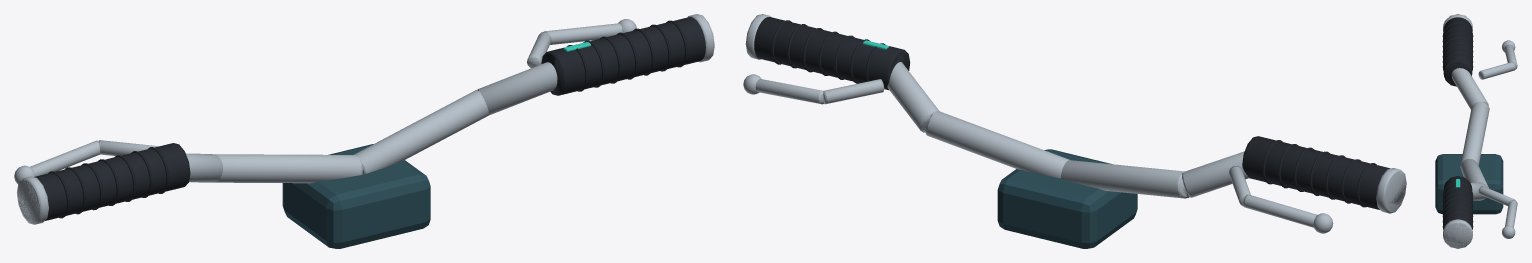
Rendered from bars-motorcycle.glb.
3 renders of one model, left to right at view 1: azimuth 30°, elevation 25°; view 2: azimuth 150°, elevation 25°; view 3: azimuth 270°, elevation 25°, orthographic. The views are drawn at different scales.
Parts seen in each view (by area): view 1: stem_mount, grip.001, grip, bar_inner.001, bar_inner, bar_rise.001, end_cap, lever_tip.001, lever_tip, bar_rise, end_cap.002, lever_root (+1 smaller); view 2: stem_mount, grip.001, grip, bar_inner.001, bar_inner, bar_rise.001, bar_rise, lever_tip, lever_tip.001, end_cap, lever_root.001, end_cap.002 (+1 smaller); view 3: stem_mount, grip, bar_inner, grip.001, bar_rise, end_cap.001, end_cap.003, bar_inner.001, lever_root, lever_root.001, grip.002, lever_tip.001 (+20 smaller).
Part boxes in pixels (box(x1,y1,x2,y2)): stem_mount: box(282, 144, 430, 248); grip.001: box(542, 17, 705, 95); grip: box(34, 143, 189, 220); bar_inner.001: box(354, 90, 488, 173); bar_inner: box(215, 154, 361, 183); bar_rise.001: box(478, 62, 557, 115); end_cap: box(18, 176, 47, 224); lever_tip.001: box(546, 23, 622, 44); lever_tip: box(30, 141, 100, 176); bar_rise: box(186, 153, 223, 182); end_cap.002: box(17, 177, 48, 224); lever_root: box(99, 140, 158, 155); stem_mount: box(997, 149, 1137, 248); grip.001: box(754, 17, 909, 90); grip: box(1243, 136, 1390, 209); bar_inner.001: box(926, 111, 1070, 178); bar_inner: box(1061, 160, 1186, 198); bar_rise.001: box(887, 62, 939, 131); bar_rise: box(1182, 151, 1248, 197); lever_tip: box(1244, 194, 1317, 227); lever_tip.001: box(755, 79, 823, 103); end_cap: box(1377, 168, 1405, 212); lever_root.001: box(823, 79, 882, 103); end_cap.002: box(1376, 168, 1406, 213); stem_mount: box(1435, 154, 1503, 214); grip: box(1443, 17, 1472, 85); bar_inner: box(1460, 101, 1489, 165); grip.001: box(1443, 176, 1472, 228); bar_rise: box(1451, 68, 1487, 109); end_cap.001: box(1443, 219, 1472, 247); end_cap.003: box(1443, 219, 1472, 248); bar_inner.001: box(1460, 158, 1488, 187); lever_root: box(1479, 62, 1515, 79); lever_root.001: box(1479, 186, 1513, 205); grip.002: box(1443, 60, 1472, 86); lever_tip.001: box(1505, 200, 1517, 227).
Size of the model in its own units: 0.65 by 0.1225 by 0.109.
